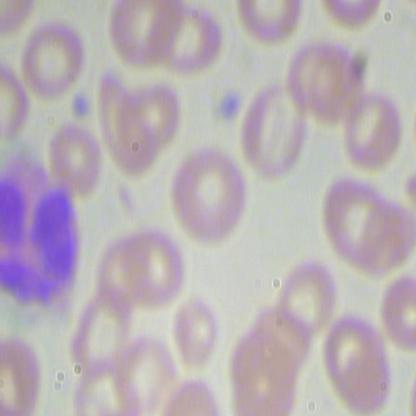Platelets: (215, 88, 246, 123), (69, 94, 95, 120)
